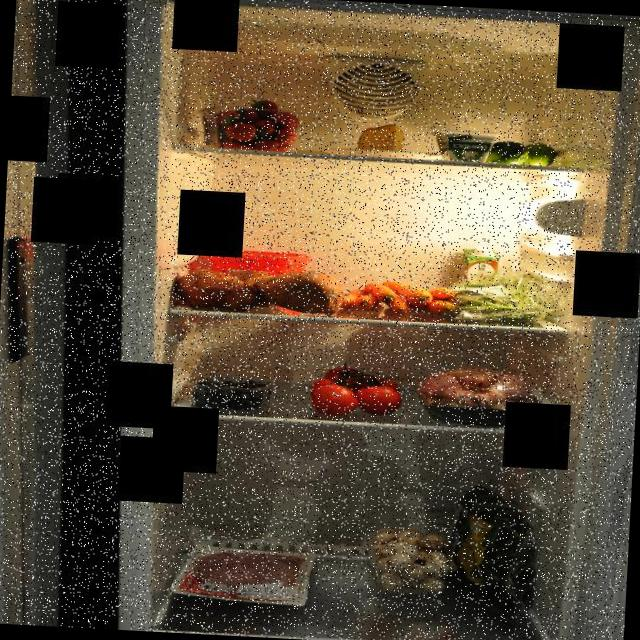Carne cerdo: (178, 543, 308, 602)
Carne pollo: (413, 363, 549, 430)
Champiñones: (362, 527, 454, 604)
Mantequilla: (198, 245, 318, 296)
Queso: (434, 134, 500, 166), (356, 122, 409, 155)
Tomate: (306, 362, 407, 422)
Zanahoria: (336, 274, 464, 322)
blueberries: (189, 376, 278, 413)
green_beans: (444, 266, 560, 331)
heavy_cream: (462, 246, 504, 292)
spinach: (442, 484, 543, 630)
strawberries: (195, 92, 306, 156)
sweet_potato: (166, 262, 344, 318)
